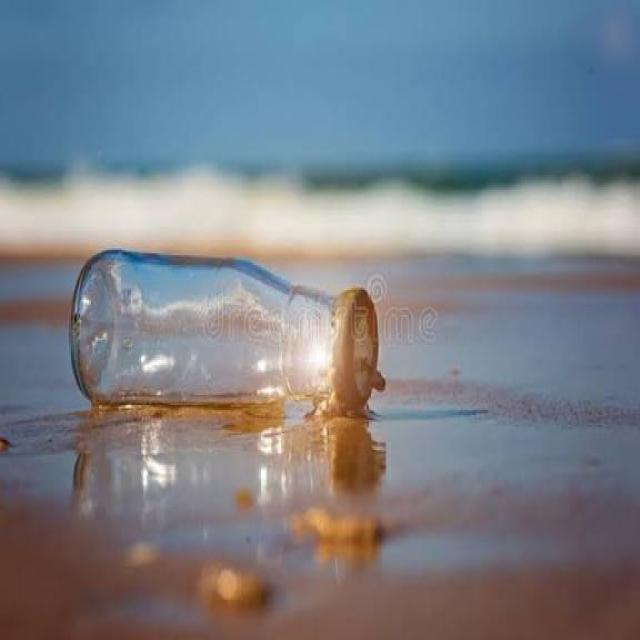glass: (71, 232, 409, 449)
